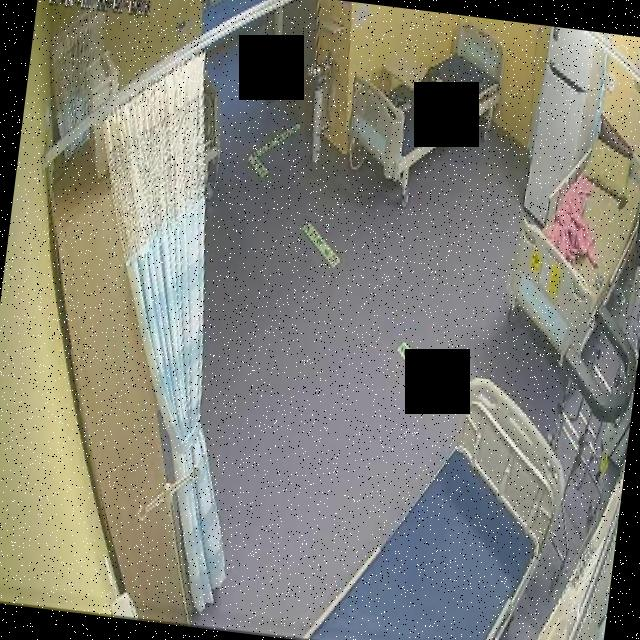bed: (307, 358, 580, 640), (498, 124, 640, 363), (341, 11, 506, 190)
